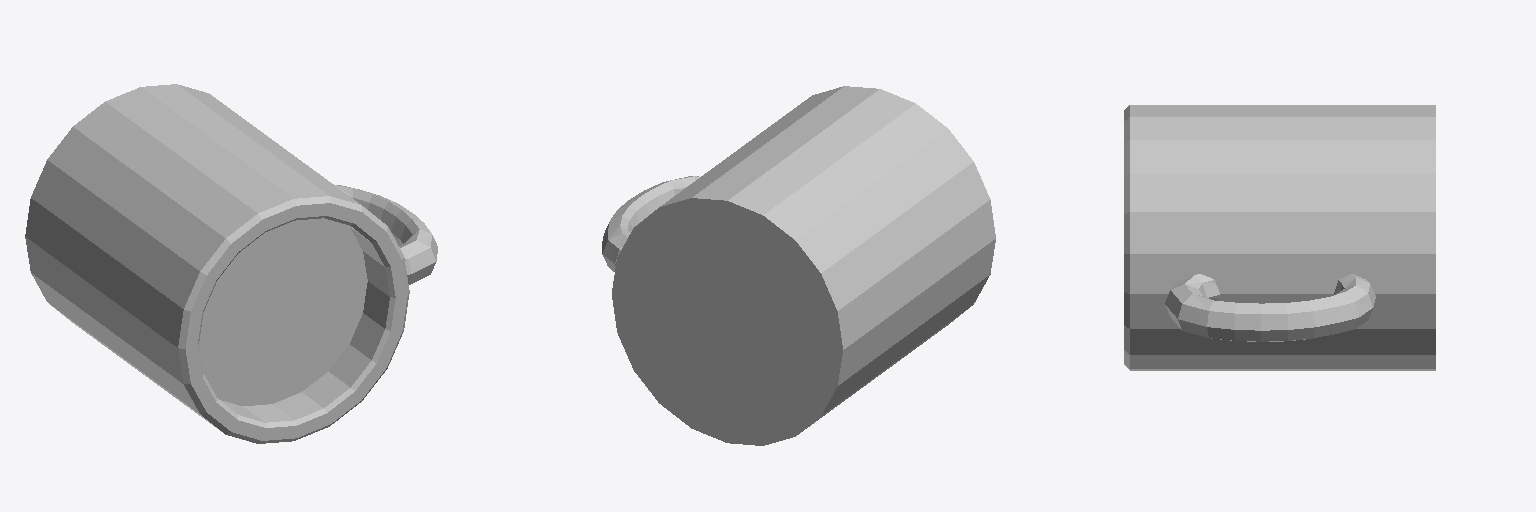
The model's file is mug.obj.
3 views of the same model, side by side, from view 1: azimuth 30°, elevation 25°; view 2: azimuth 150°, elevation 25°; view 3: azimuth 270°, elevation 25° (orthographic).
Parts seen in each view (by area): view 1: mug1, mug; view 2: mug1; view 3: mug1.
Part boxes in pixels (x1,y1,x2,y2): mug1: (25, 84, 437, 443); mug: (199, 218, 367, 405); mug1: (602, 86, 995, 445); mug1: (1124, 105, 1435, 370).
Bounding box in the file's own units: 3.21 × 2.43 × 2.82.